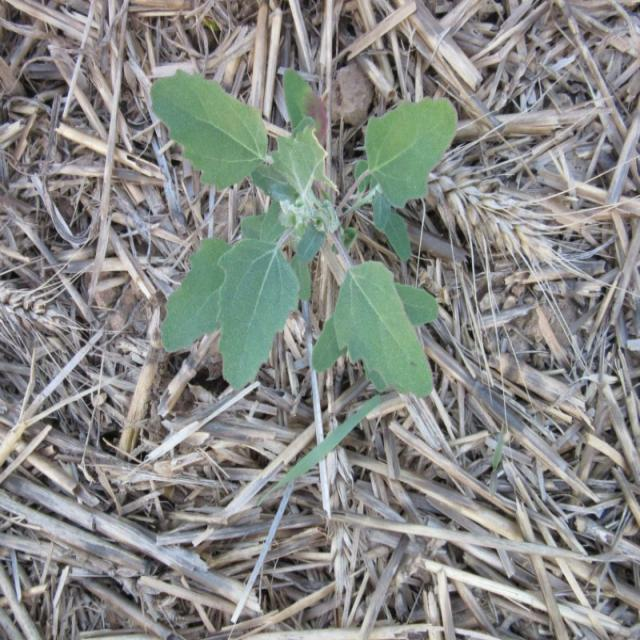ca: (152, 71, 459, 400)
